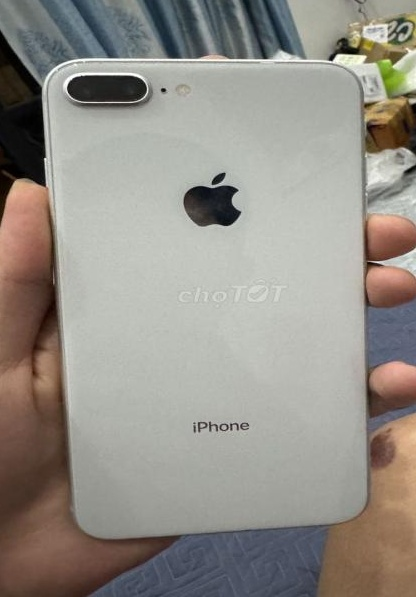scratch: (41, 59, 245, 70), (62, 73, 98, 81)
